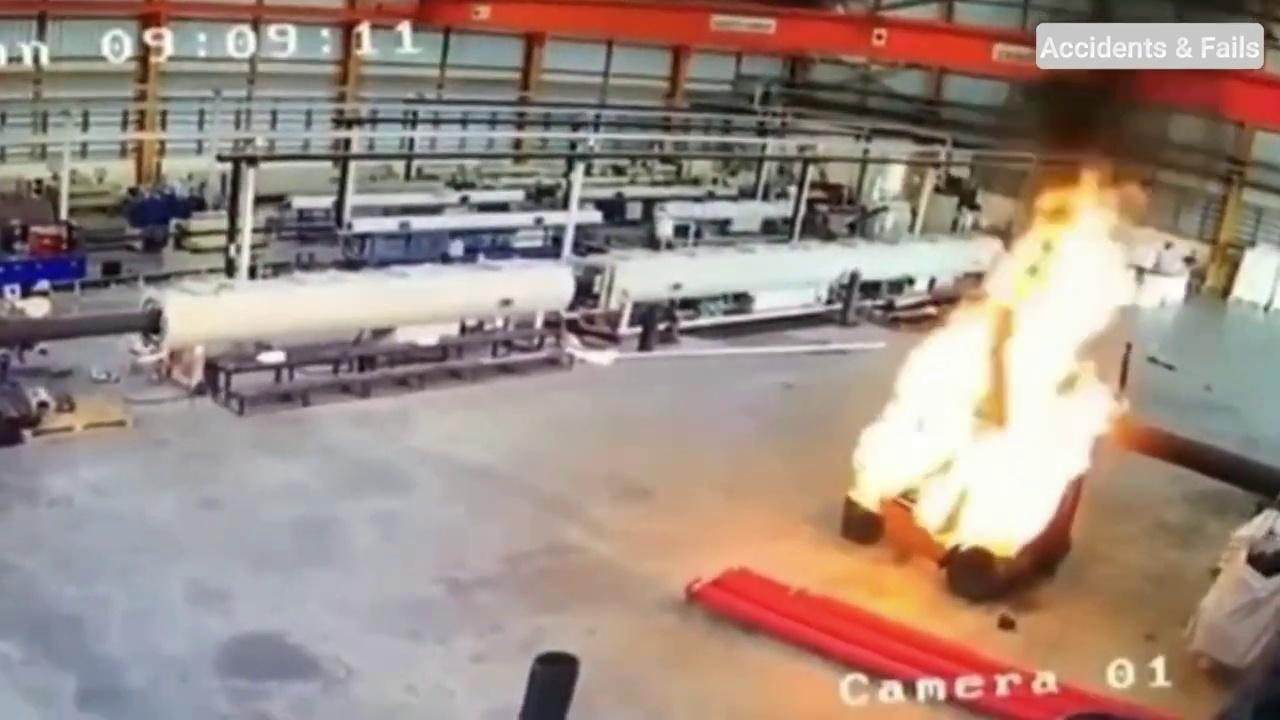fire: (835, 151, 1152, 599)
